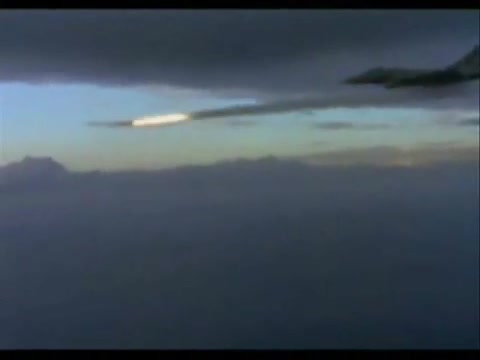aeroplane: (342, 43, 480, 91)
